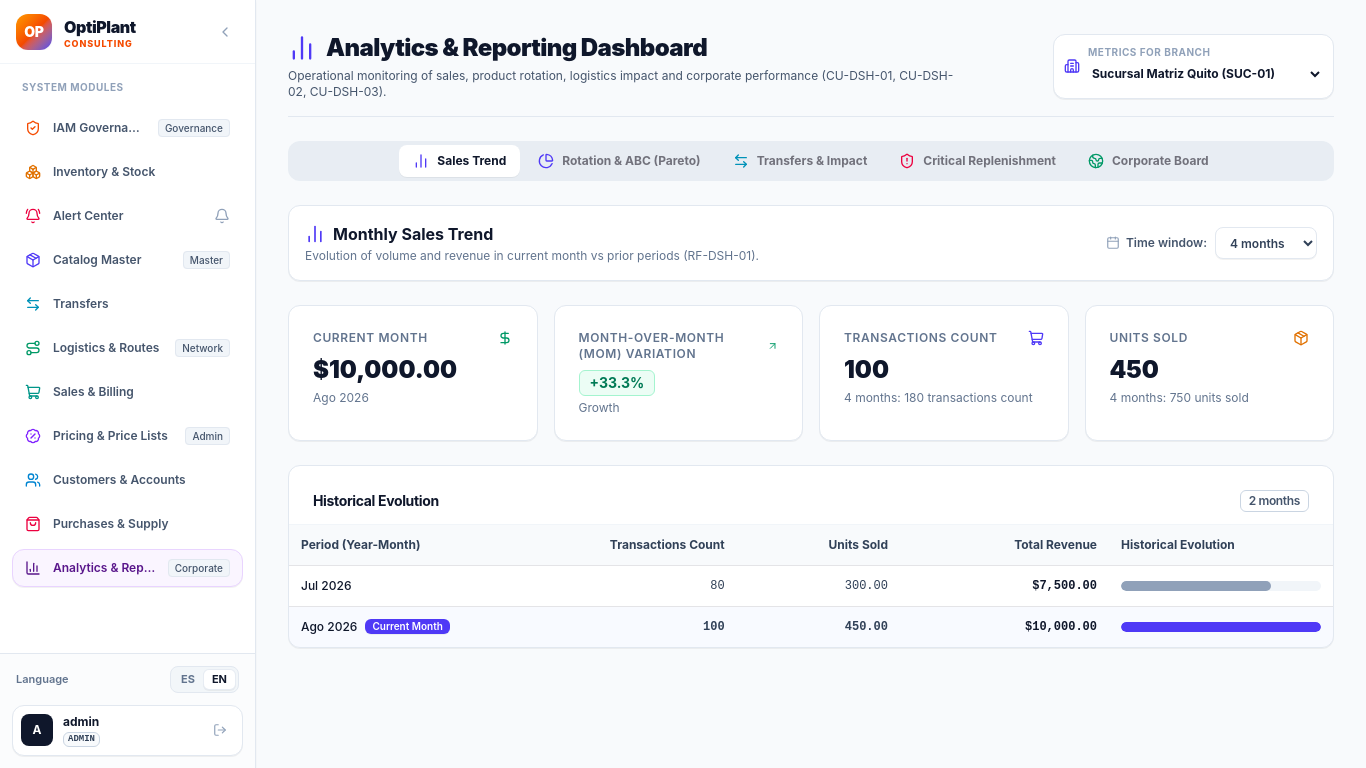
Test case: AnalyticsDashboard Component Tests › navigates to Replenishment tab and renders critical & out of stock products
This screenshot has width=1366, height=768.
Click the tab "Critical Replenishment" at (978, 161), box x1=885 y1=145 x2=1070 y2=177
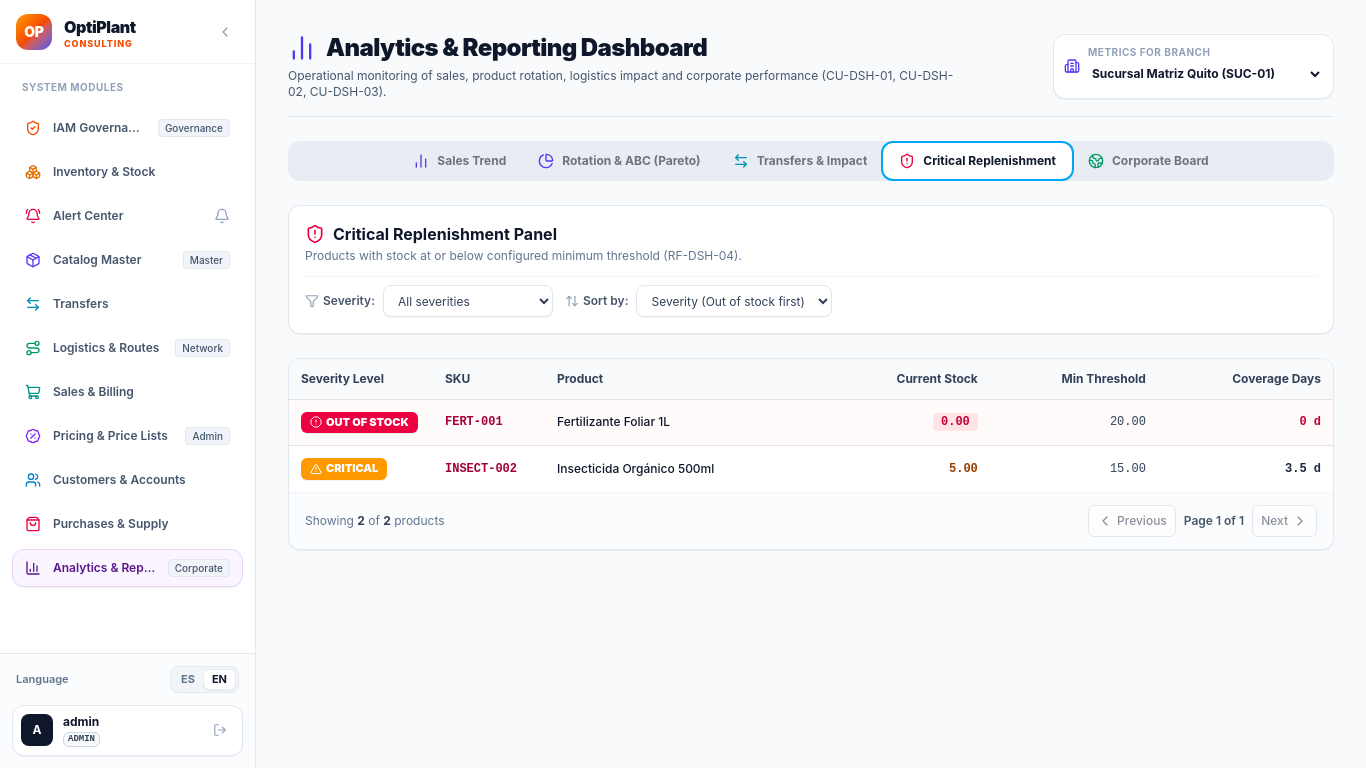
Expected: the text "OUT OF STOCK" is shown, x1=301 y1=412 x2=418 y2=433
Expected: the text "CRITICAL" is shown, x1=301 y1=458 x2=387 y2=480
Expected: the text "FERT-001" is shown, x1=433 y1=399 x2=545 y2=446
